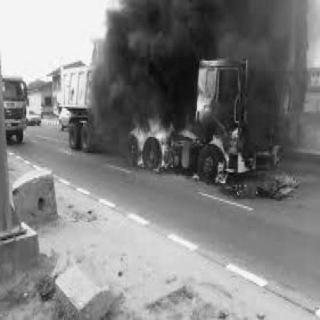Fire: (122, 113, 249, 175)
Smoke: (78, 3, 314, 119)
